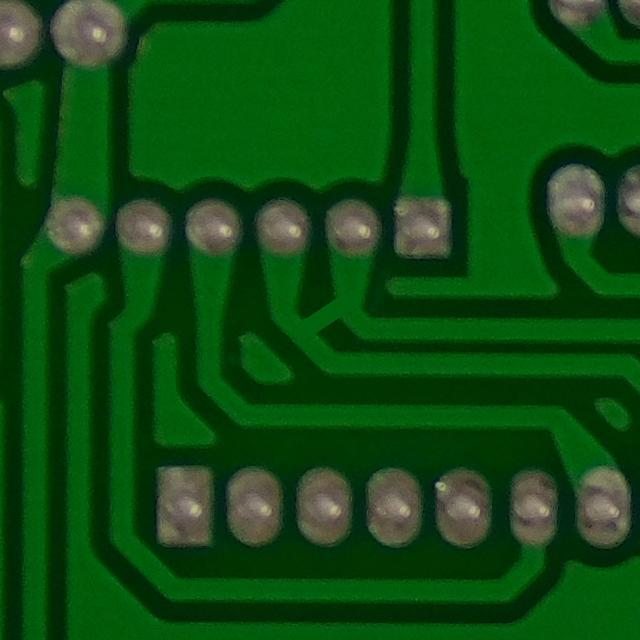short: (261, 274, 380, 366)
